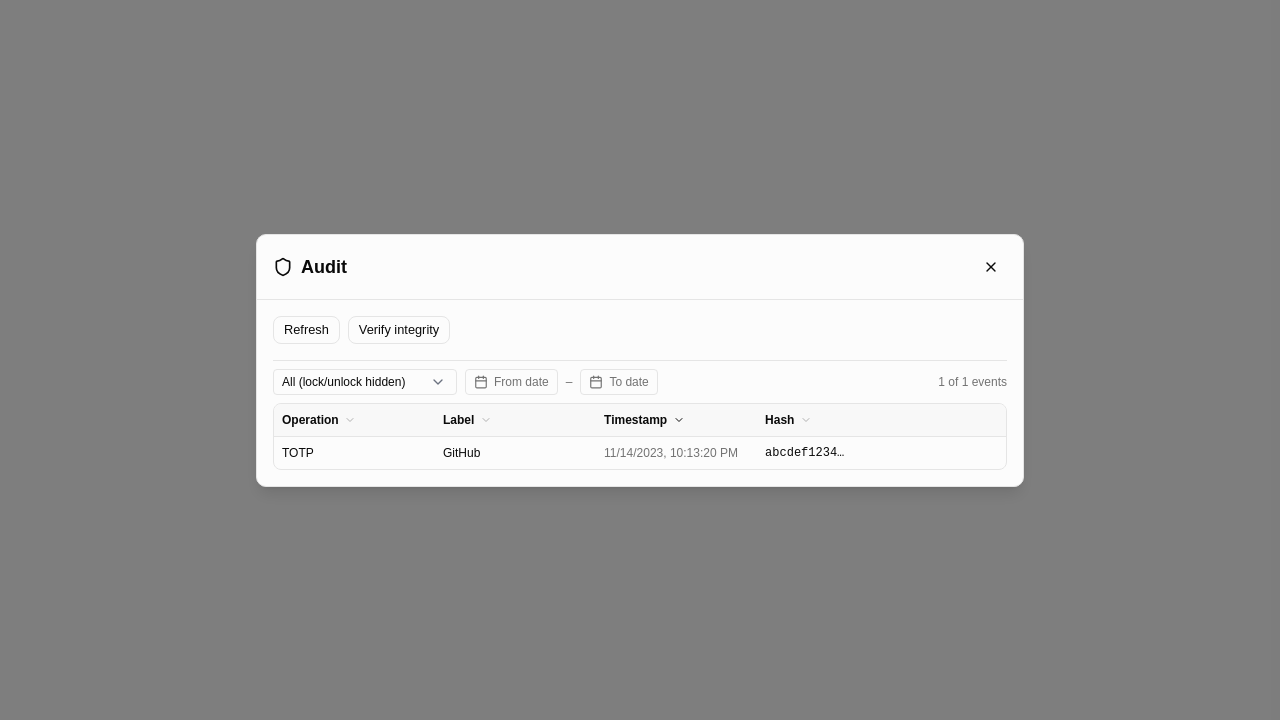
it: AuditPanel › shows verified result
Click the button "Verify integrity" at (399,330), box [348,316,450,344]
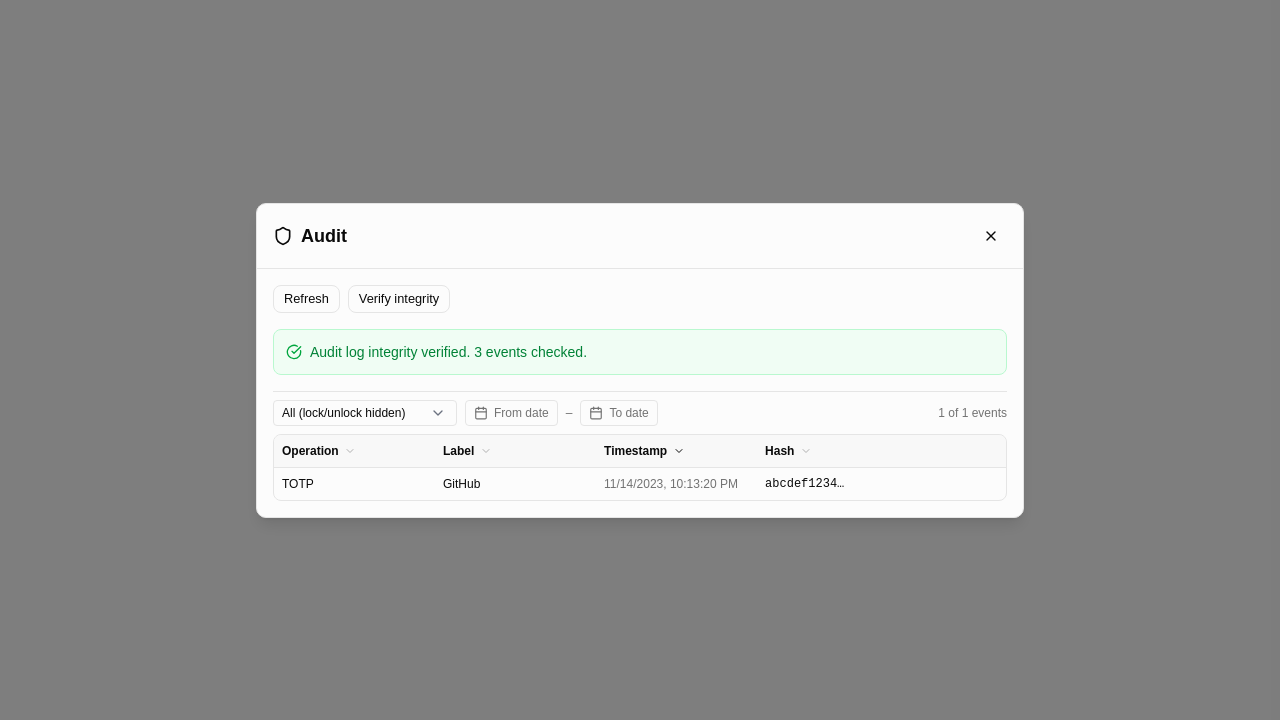
Now the text "Audit log integrity verified. 3 events checked." is shown, box [310,342,587,362]
